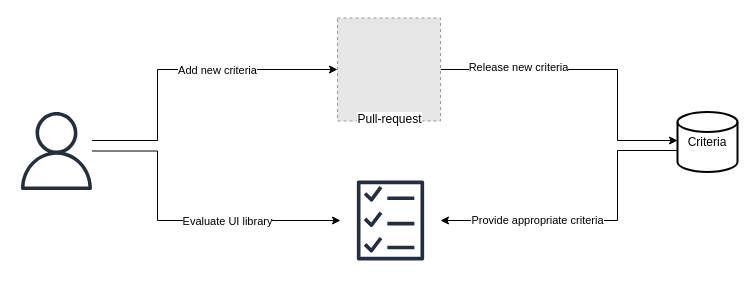
The diagram is 755 pixels wide and 308 high, and some of its shapes have lost their labels. Grey dashed boxes stand in for pictures. The centre of each missing label's shape, as x and y in pixels:
Checklist: point (390, 220)
Contributor: point (56, 151)
